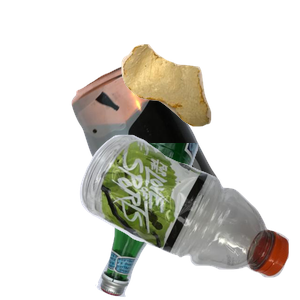glass: (93, 143, 284, 300)
metal: (69, 58, 300, 238)
plastic: (77, 132, 300, 300)
trash: (119, 42, 300, 161)
